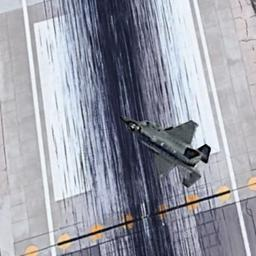Airplane: (116, 103, 210, 192)
